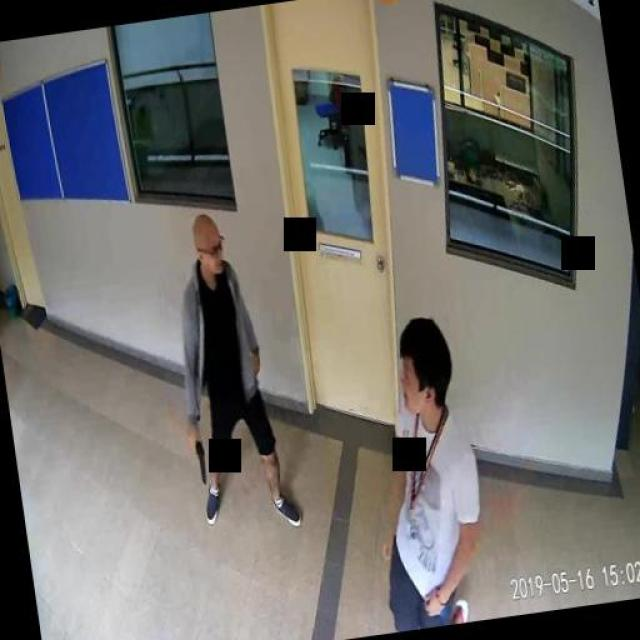gun: (188, 431, 208, 485)
